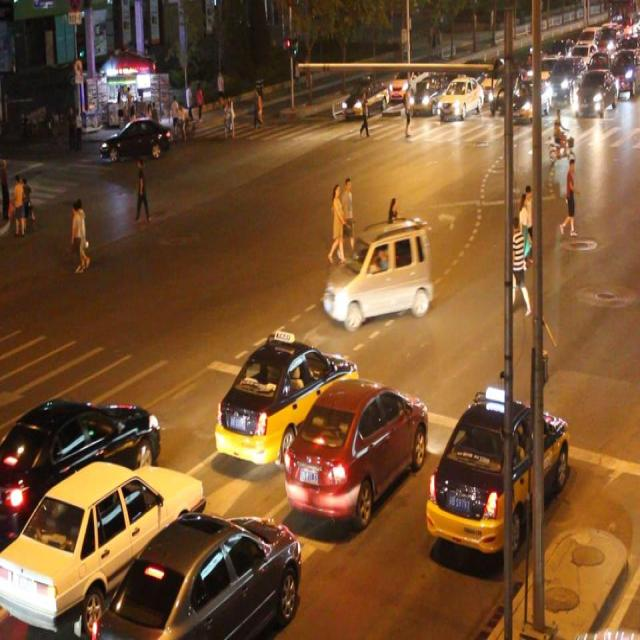car: (1, 460, 204, 630), (93, 507, 300, 640), (1, 398, 164, 543), (425, 392, 569, 553), (284, 375, 426, 521), (215, 331, 358, 465), (323, 220, 432, 322), (100, 120, 170, 161), (438, 74, 482, 120), (343, 75, 388, 117), (406, 68, 447, 114)
